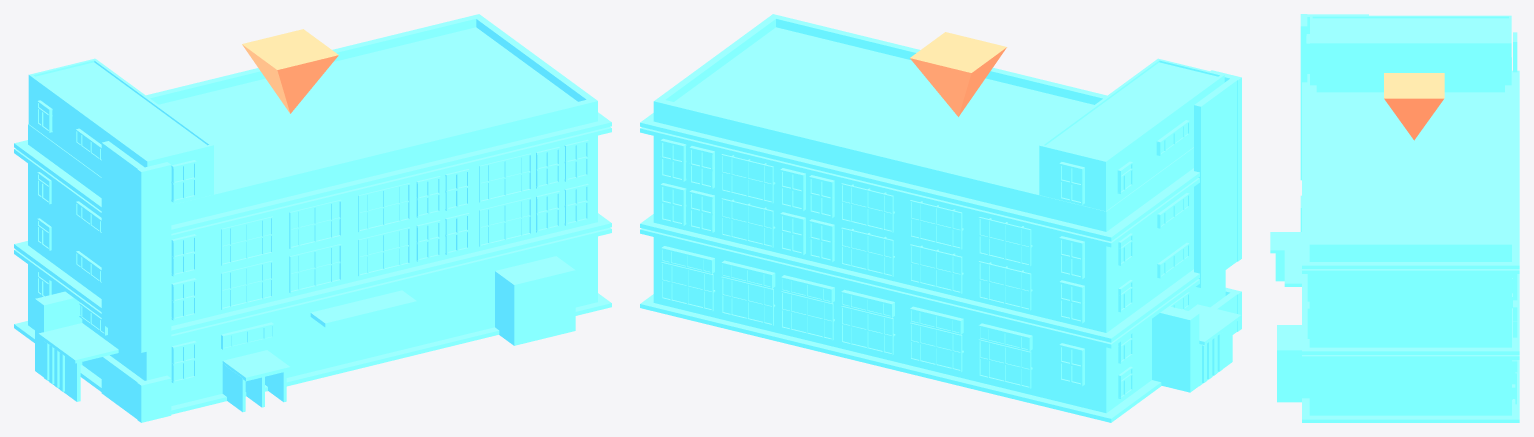
3 views of the same model, side by side, from view 1: azimuth 30°, elevation 25°; view 2: azimuth 150°, elevation 25°; view 3: azimuth 270°, elevation 25° (orthographic). The views are drawn at different scales.
Visible parts, largest first — view 1: subject, fire-mark; view 2: subject, fire-mark; view 3: subject, fire-mark.
Boxes of the visible parts, x1,y1,x2,y2 form: subject: (14,14,611,422); fire-mark: (242,29,338,113); subject: (640,14,1241,422); fire-mark: (910,32,1006,116); subject: (1270,14,1519,422); fire-mark: (1384,73,1444,140).
Bounding box in the file's own units: 47.79 × 24.65 × 24.06.
